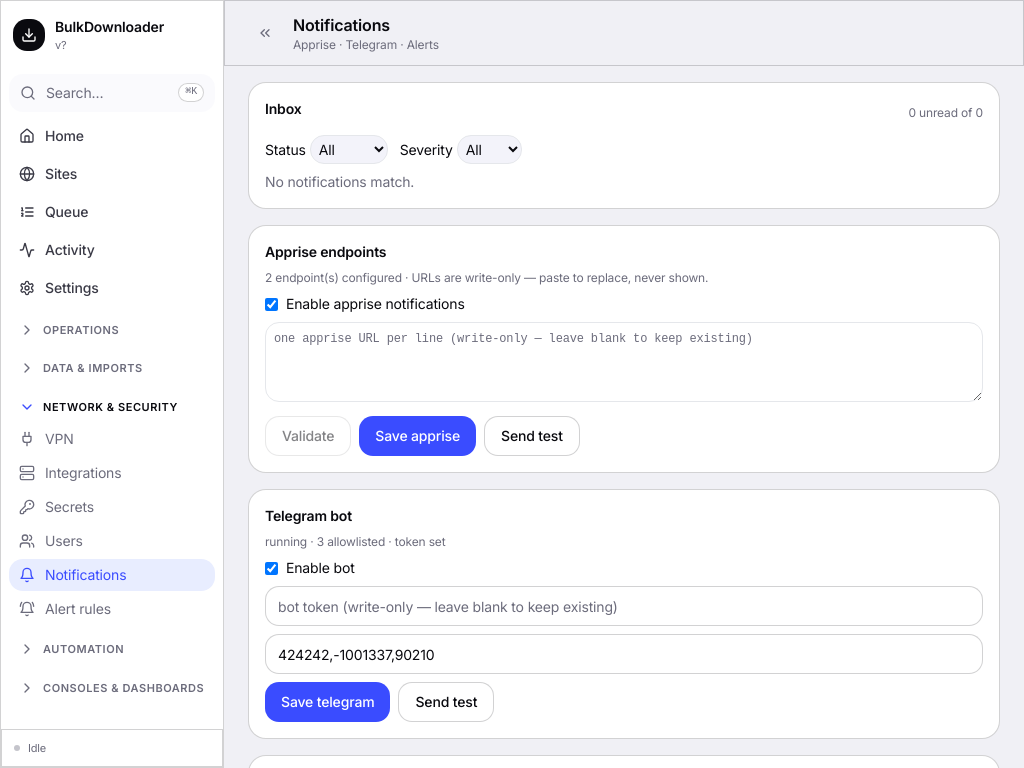
Test: row 238 -- saves preserve settings the operator never retyped › pasting apprise URLs does not silently disable apprise notifications
Check: the text "running · 3 allowlisted · token set" is shown, box top-left (265, 534), bottom-right (446, 549)
Check: the text "2 endpoint(s) configured" is shown, box top-left (265, 270), bottom-right (402, 285)
Type "json://row238.invalid/hook" into the text box with placeholder "one apprise URL per line" at (624, 362), box top-left (265, 322), bottom-right (983, 402)
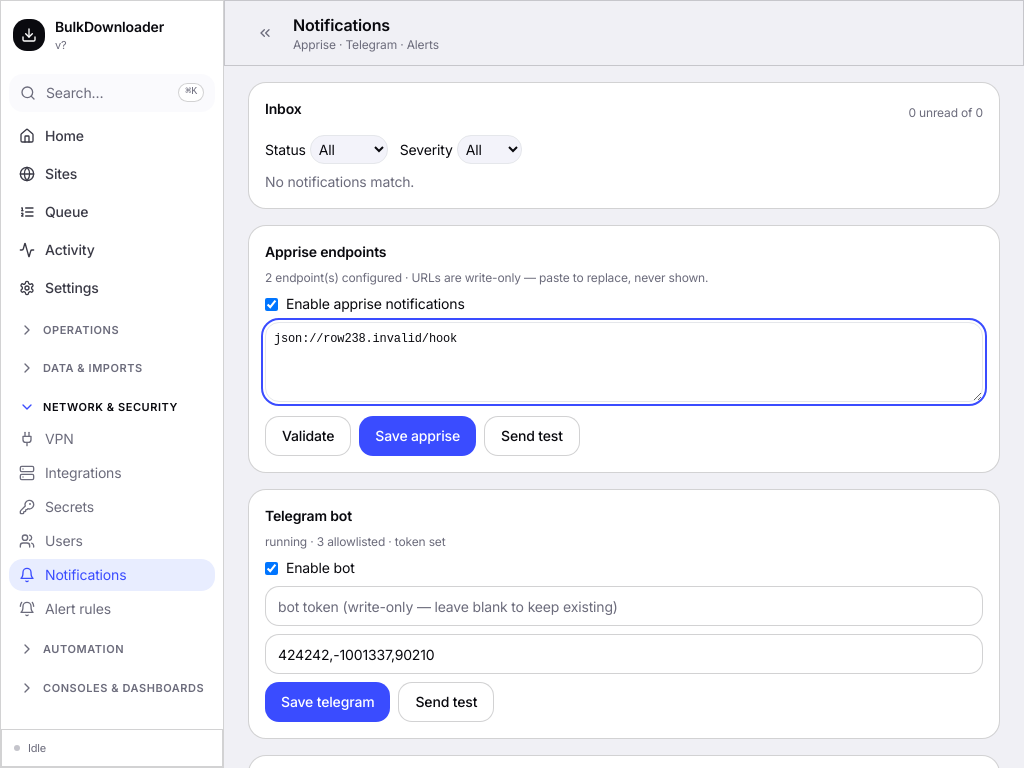
Click the button "Save apprise" at (418, 436), box top-left (359, 416), bottom-right (476, 456)
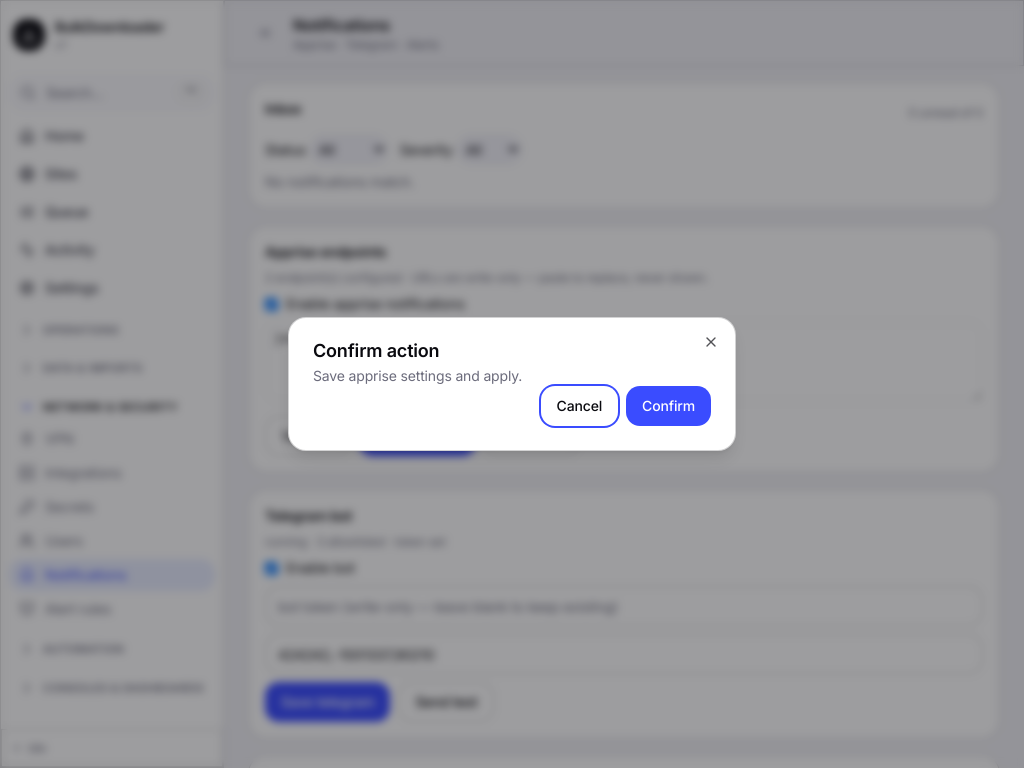
Click the button "Confirm" at (669, 406), box top-left (626, 386), bottom-right (711, 426)
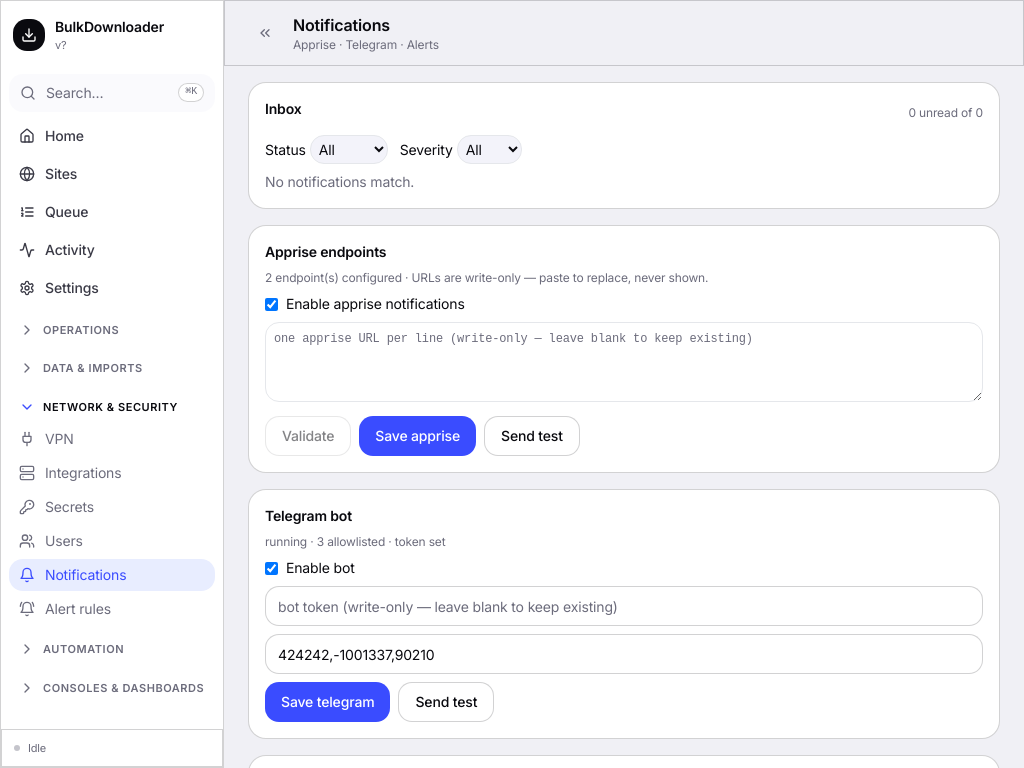
Check: the dialog is gone
